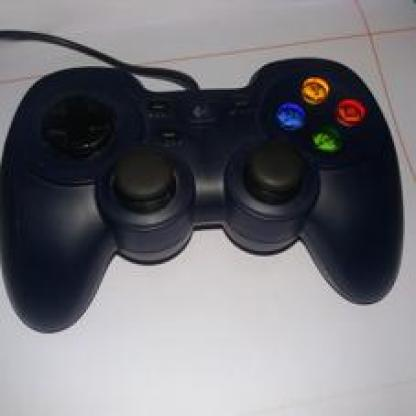gamepad: (11, 59, 409, 337)
